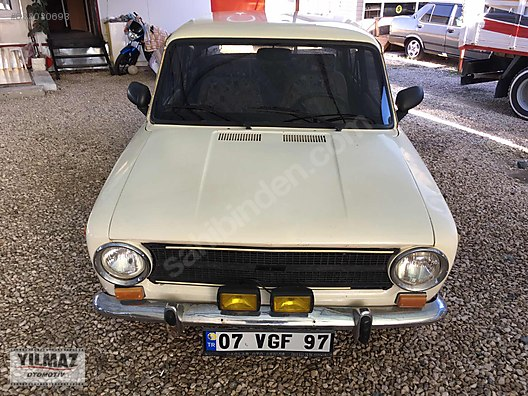murat: (76, 16, 458, 359)
